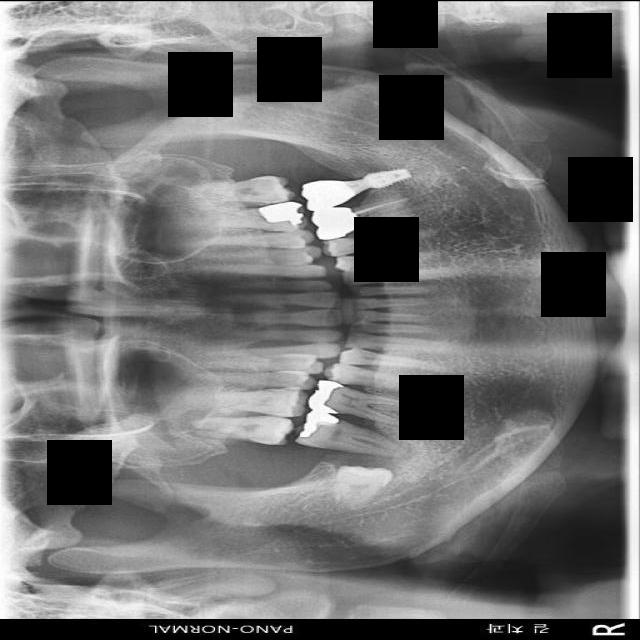52: (293, 403, 349, 458), (305, 374, 358, 423), (311, 200, 365, 242), (299, 174, 357, 212), (258, 196, 310, 237)
73: (351, 194, 418, 231), (530, 14, 558, 38)
BioHorizons Implant: (191, 174, 294, 205)
Caries: (184, 404, 296, 448)
Implant: (295, 406, 412, 464)
Keystone Dental Implant: (332, 464, 394, 513)
